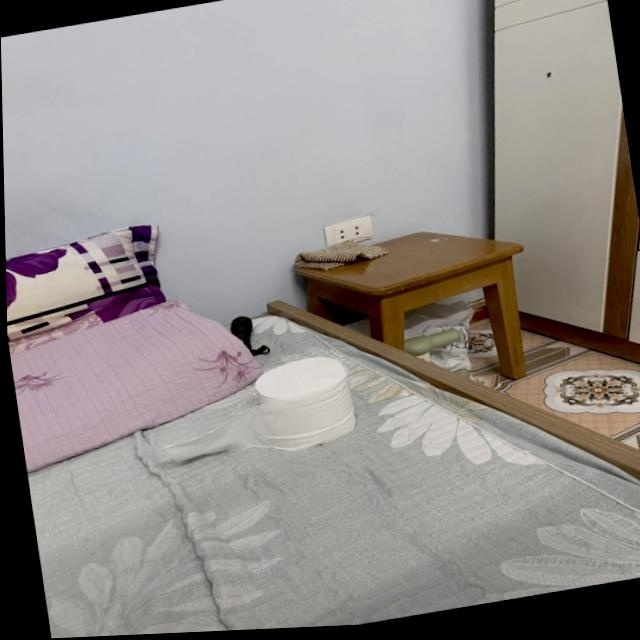outlet: (321, 214, 374, 248)
